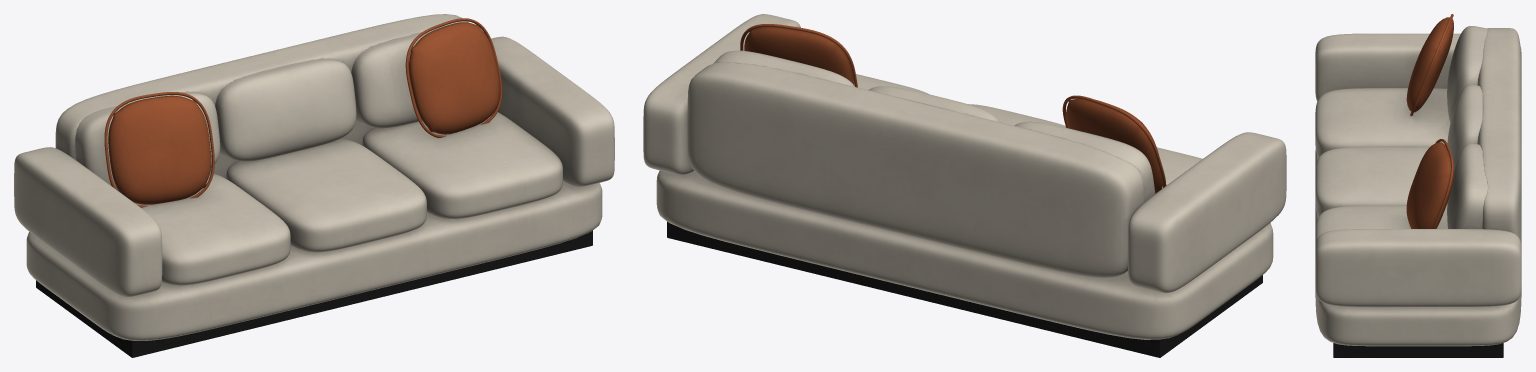
File: low-plinth-cream.glb
3 views of the same model, side by side, from view 1: azimuth 30°, elevation 25°; view 2: azimuth 150°, elevation 25°; view 3: azimuth 270°, elevation 25° (orthographic). The views are drawn at different scales.
Visible parts, largest first — view 1: fabric_primary, fabric_secondary, plinth_black; view 2: fabric_primary, fabric_secondary, plinth_black; view 3: fabric_primary, fabric_secondary, plinth_black.
Boxes of the visible parts, box(x1,y1,x2,y2) form: fabric_primary: box(14, 14, 614, 340); fabric_secondary: box(104, 18, 502, 207); plinth_black: box(36, 230, 592, 357); fabric_primary: box(643, 14, 1286, 339); fabric_secondary: box(740, 24, 1166, 193); plinth_black: box(667, 221, 1262, 357); fabric_primary: box(1315, 26, 1521, 346); fabric_secondary: box(1406, 14, 1453, 228); plinth_black: box(1333, 343, 1503, 357).
Size of the model in its own units: 2.26 by 0.8515 by 0.92.
3 materials, 3 textured.
